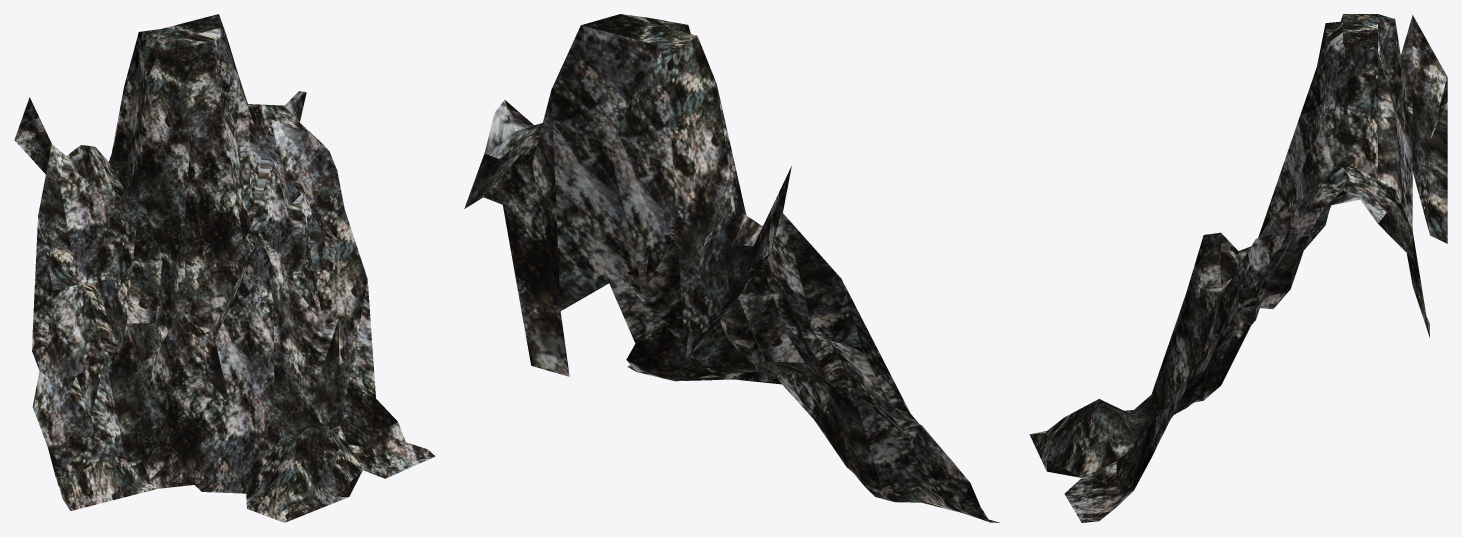
The model's file is OVERHILL_A_01_OBJECT16.fbx.
3 renders of one model, left to right at view 1: azimuth 30°, elevation 25°; view 2: azimuth 150°, elevation 25°; view 3: azimuth 270°, elevation 25°, orthographic. The views are drawn at different scales.
Visible parts, largest first — view 1: OVERHILL_A_01_OBJECT16; view 2: OVERHILL_A_01_OBJECT16; view 3: OVERHILL_A_01_OBJECT16.
Boxes of the visible parts, x1=… form: OVERHILL_A_01_OBJECT16: x1=14, y1=14, x2=435, y2=522; OVERHILL_A_01_OBJECT16: x1=464, y1=14, x2=999, y2=522; OVERHILL_A_01_OBJECT16: x1=1029, y1=14, x2=1447, y2=522.
Size of the model in its own units: 301387 by 342959 by 299166.
1 material, 1 textured.
